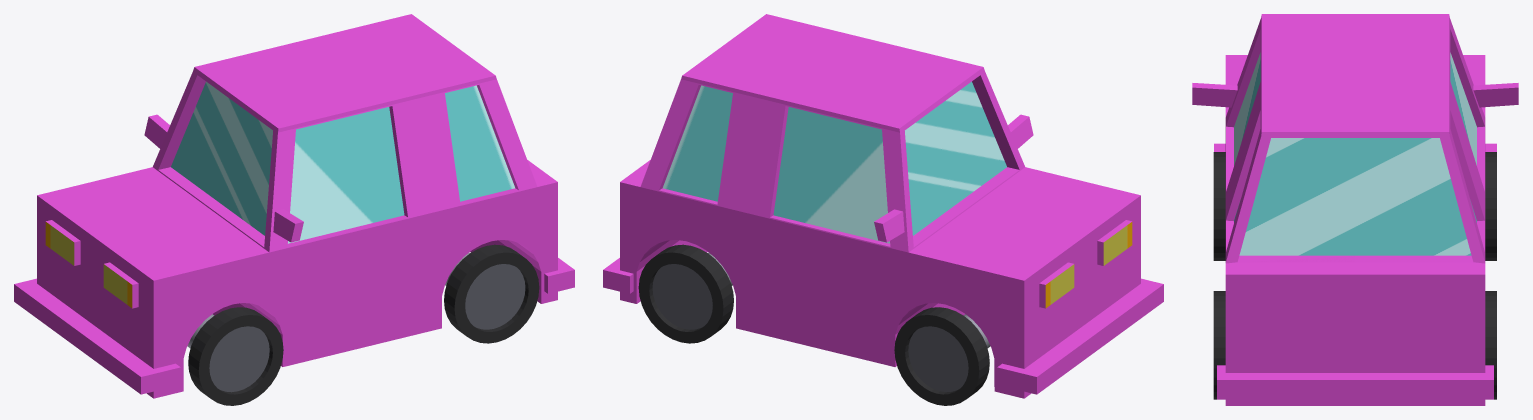
Rendered from Car C.fbx.
3 views of the same model, side by side, from view 1: azimuth 30°, elevation 25°; view 2: azimuth 150°, elevation 25°; view 3: azimuth 270°, elevation 25° (orthographic). The views are drawn at different scales.
Parts seen in each view (by area): view 1: Body.002, WFL.002, WBL.002; view 2: Body.002, WFR.002, WBR.002; view 3: Body.002, WFL.002, WFR.002, WBL.002, WBR.002.
Part boxes in pixels (x1=…): Body.002: x1=14, y1=14, x2=574, y2=398; WFL.002: x1=188, y1=307, x2=283, y2=405; WBL.002: x1=444, y1=244, x2=539, y2=343; Body.002: x1=603, y1=14, x2=1163, y2=398; WFR.002: x1=894, y1=307, x2=989, y2=405; WBR.002: x1=638, y1=244, x2=733, y2=343; Body.002: x1=1192, y1=14, x2=1518, y2=405; WFL.002: x1=1213, y1=152, x2=1225, y2=260; WFR.002: x1=1485, y1=152, x2=1496, y2=260; WBL.002: x1=1213, y1=291, x2=1225, y2=399; WBR.002: x1=1485, y1=291, x2=1496, y2=399.
Bounding box in the file's own units: 431 × 233 × 251.
2 materials, 2 textured.
